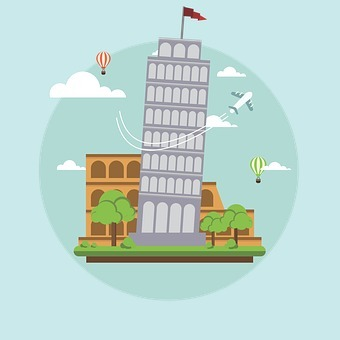aeroplane: (218, 82, 262, 119)
